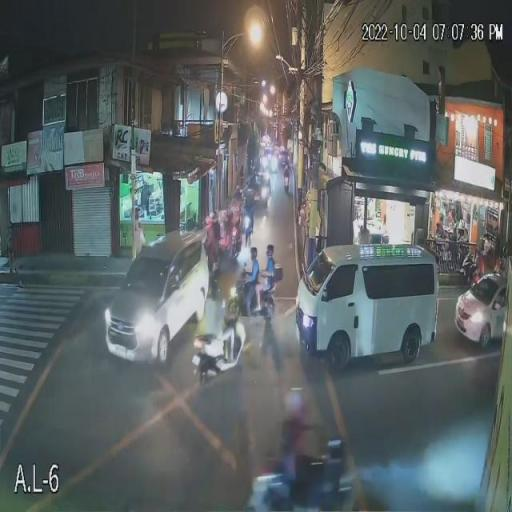helmet: (285, 390, 314, 425), (208, 282, 220, 305), (264, 244, 277, 262), (248, 246, 260, 263)
motorcycle: (245, 449, 361, 512), (194, 312, 249, 382), (226, 275, 278, 321), (242, 212, 251, 237)
rider: (282, 387, 313, 483), (204, 280, 224, 343), (245, 246, 261, 313), (263, 243, 280, 302), (244, 200, 253, 219)
